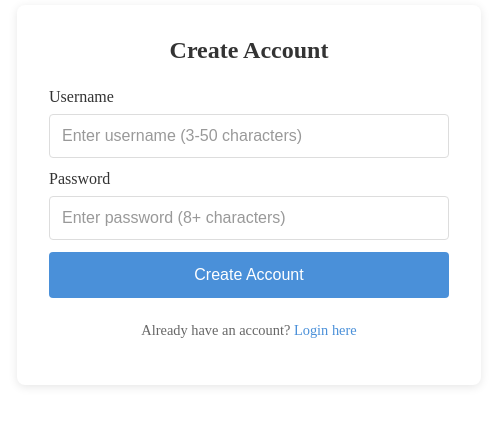
Test: RegisterForm › Client-side Validation › shows error for password less than 8 characters
The width and height of the screenshot is (499, 425).
Type "validuser" into the field labelled "Username".
click(249, 136); type("validuser")  # box [49,114,449,158]
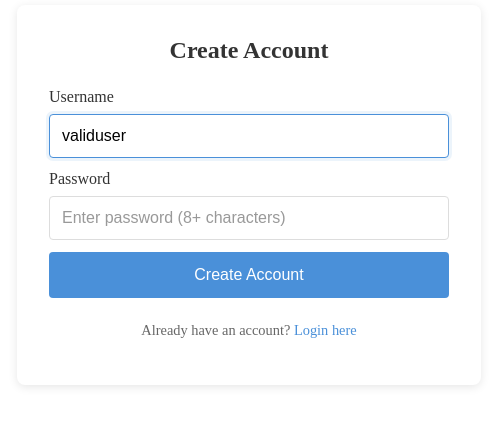
Type "short" into the password field labelled "Password".
click(249, 218); type("short")  # box [49,196,449,240]
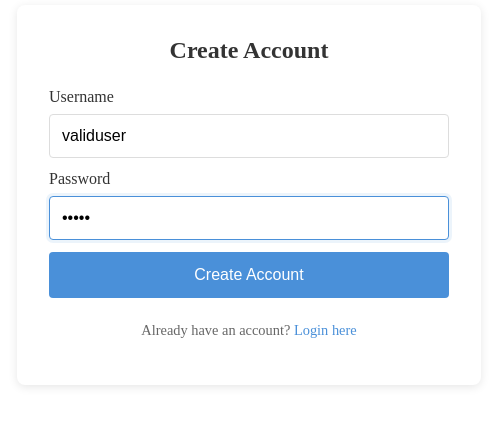
Click the button "Create Account".
click(249, 275)  # box [49,252,449,298]
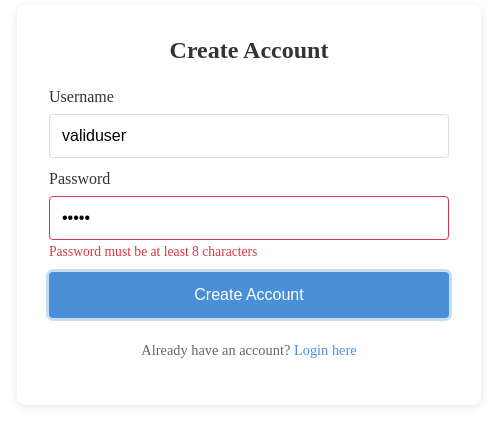
Now the text "Password must be at least 8 characters" is shown, box [49,244,257,259]
